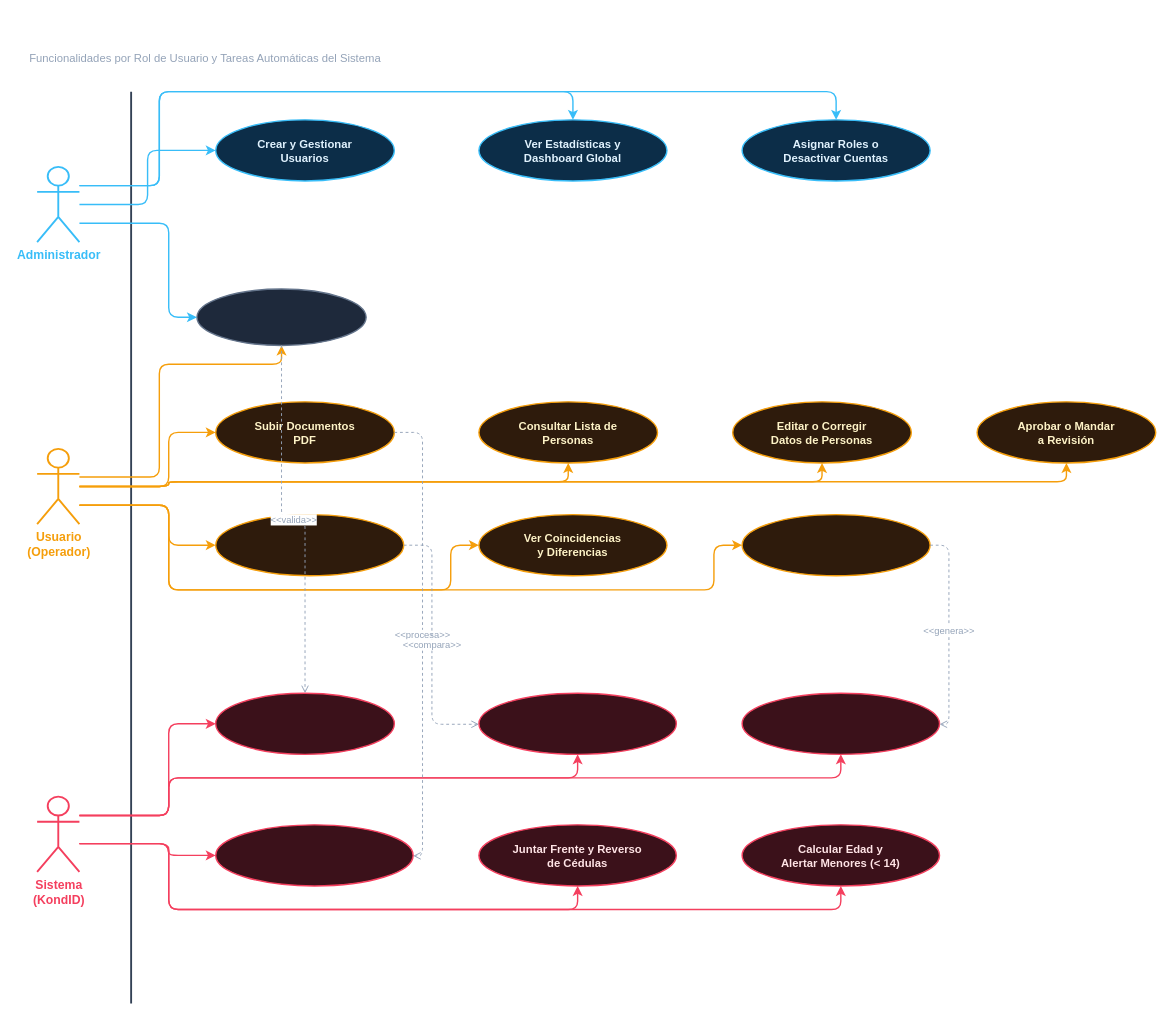
Some shapes in this 1172 by 1021 pixel diagram are drawn without their labels. Here are the shapes that lost their labels. From the top down, the centre of each, then its label:
At (x=281, y=317): "Iniciar / Cerrar Sesión".
At (x=309, y=545): "Subir Planilla Excel para Comparar".
At (x=835, y=545): "Descargar Reporte en Excel (.xlsx)".
At (x=305, y=723): "Validar Credenciales de Acceso".
At (x=577, y=723): "Comparar Datos PDF vs Planilla Excel".
At (x=840, y=723): "Construir Archivo Excel con Alertas y Colores".
At (x=314, y=855): "Leer Texto de Documentos Automáticamente (OCR)".
